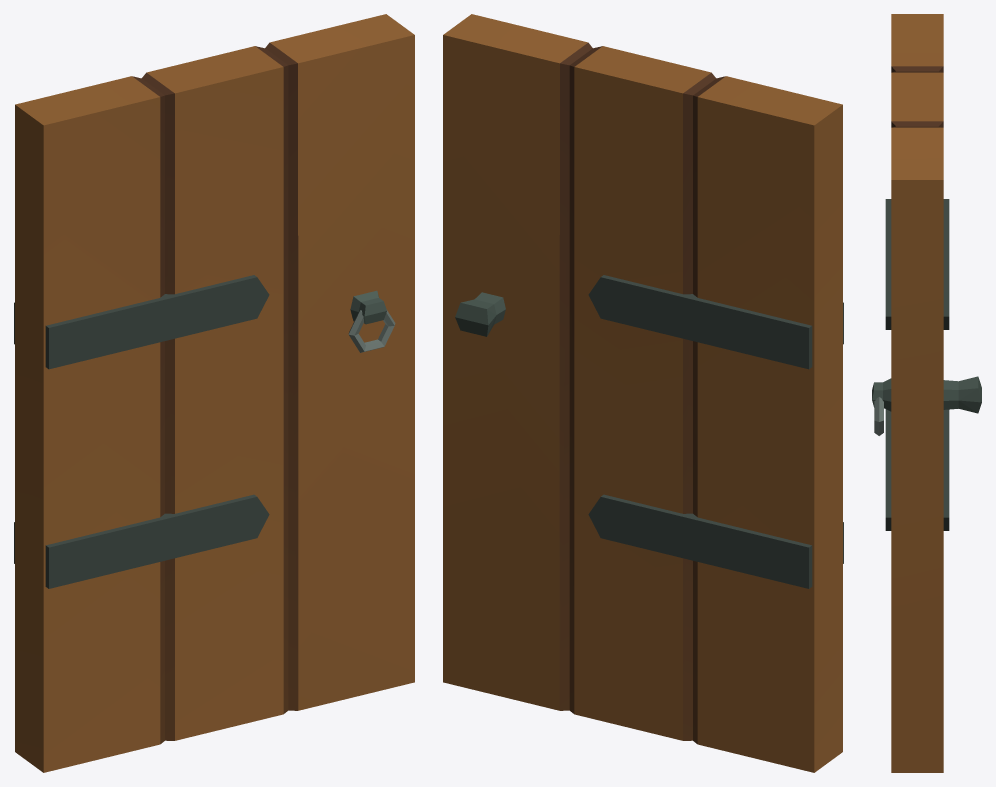
File: Door_01.fbx
3 renders of one model, left to right at view 1: azimuth 30°, elevation 25°; view 2: azimuth 150°, elevation 25°; view 3: azimuth 270°, elevation 25°, orthographic. The views are drawn at different scales.
Parts seen in each view (by area): view 1: Door_01, Door.001, Door.002, Door Handle, Door Knocker; view 2: Door_01, Door.001, Door.002, Door Handle; view 3: Door_01, Door.002, Door.001, Door Handle, Door Knocker.
Part boxes in pixels (x1=…): Door_01: x1=15, y1=14, x2=414, y2=772; Door.001: x1=14, y1=494, x2=269, y2=588; Door.002: x1=14, y1=275, x2=269, y2=369; Door Handle: x1=350, y1=290, x2=386, y2=324; Door Knocker: x1=348, y1=310, x2=395, y2=352; Door_01: x1=443, y1=14, x2=842, y2=772; Door.001: x1=588, y1=494, x2=843, y2=588; Door.002: x1=588, y1=275, x2=843, y2=369; Door Handle: x1=455, y1=292, x2=505, y2=336; Door_01: x1=891, y1=14, x2=943, y2=772; Door.002: x1=885, y1=199, x2=949, y2=329; Door.001: x1=885, y1=409, x2=949, y2=530; Door Handle: x1=872, y1=376, x2=981, y2=413; Door Knocker: x1=874, y1=397, x2=883, y2=435.
Size of the model in its own units: 1.5 by 2.5 by 0.4199.
